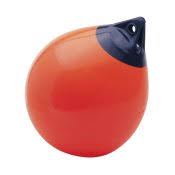buoy: (25, 28, 150, 156)
